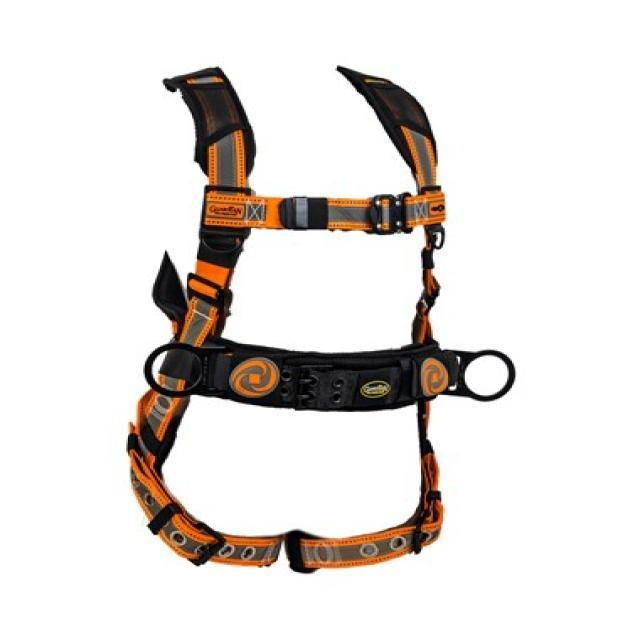Arnes_seguridad: (115, 39, 527, 583)
